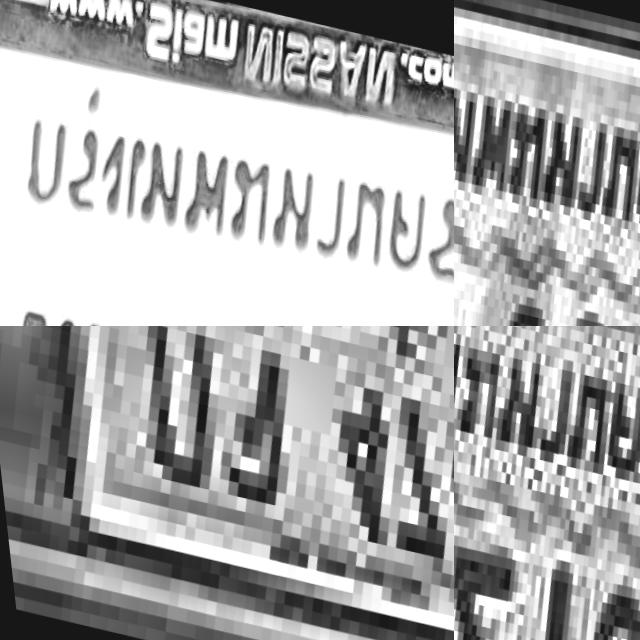license-plate: (0, 0, 454, 326), (0, 326, 454, 640), (454, 0, 640, 326), (454, 326, 640, 640)
